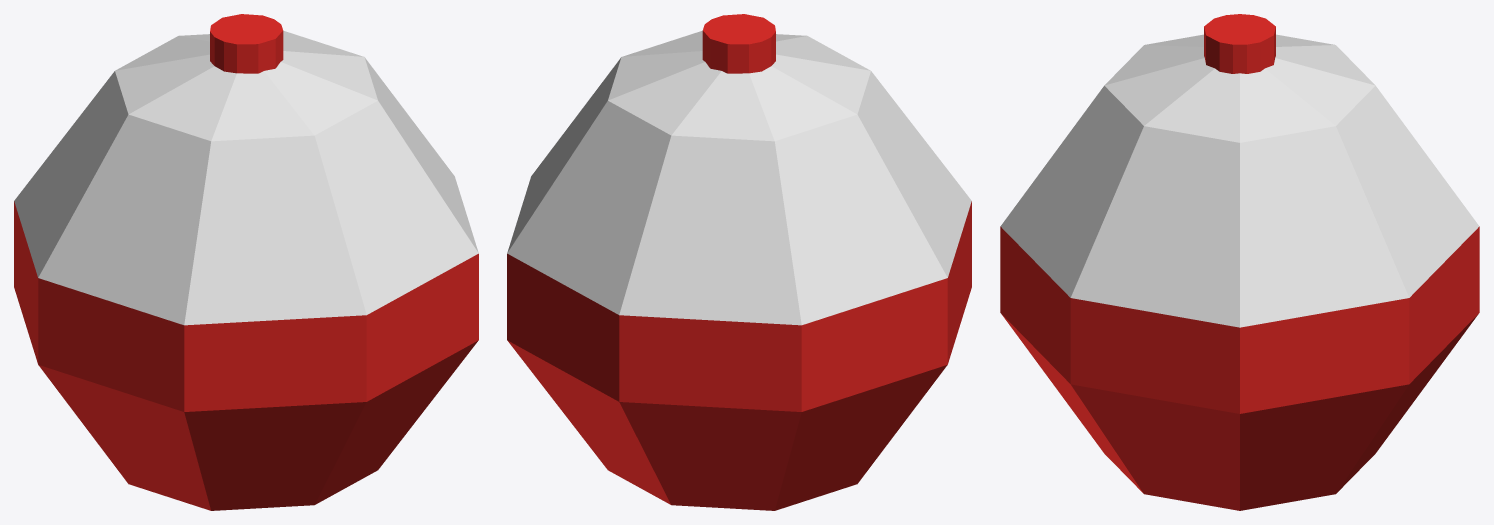
File: FishingBob.fbx
3 views of the same model, side by side, from view 1: azimuth 30°, elevation 25°; view 2: azimuth 150°, elevation 25°; view 3: azimuth 270°, elevation 25° (orthographic).
Visible parts, largest first — view 1: Sphere, Cylinder; view 2: Sphere, Cylinder; view 3: Sphere, Cylinder.
Part boxes in pixels (x1,y1,x2,y2): Sphere: (14,30,478,510); Cylinder: (210,14,283,73); Sphere: (507,30,971,510); Cylinder: (702,14,775,73); Sphere: (1000,34,1479,510); Cylinder: (1204,14,1275,73).
Size of the model in its own units: 196 by 208 by 196.
